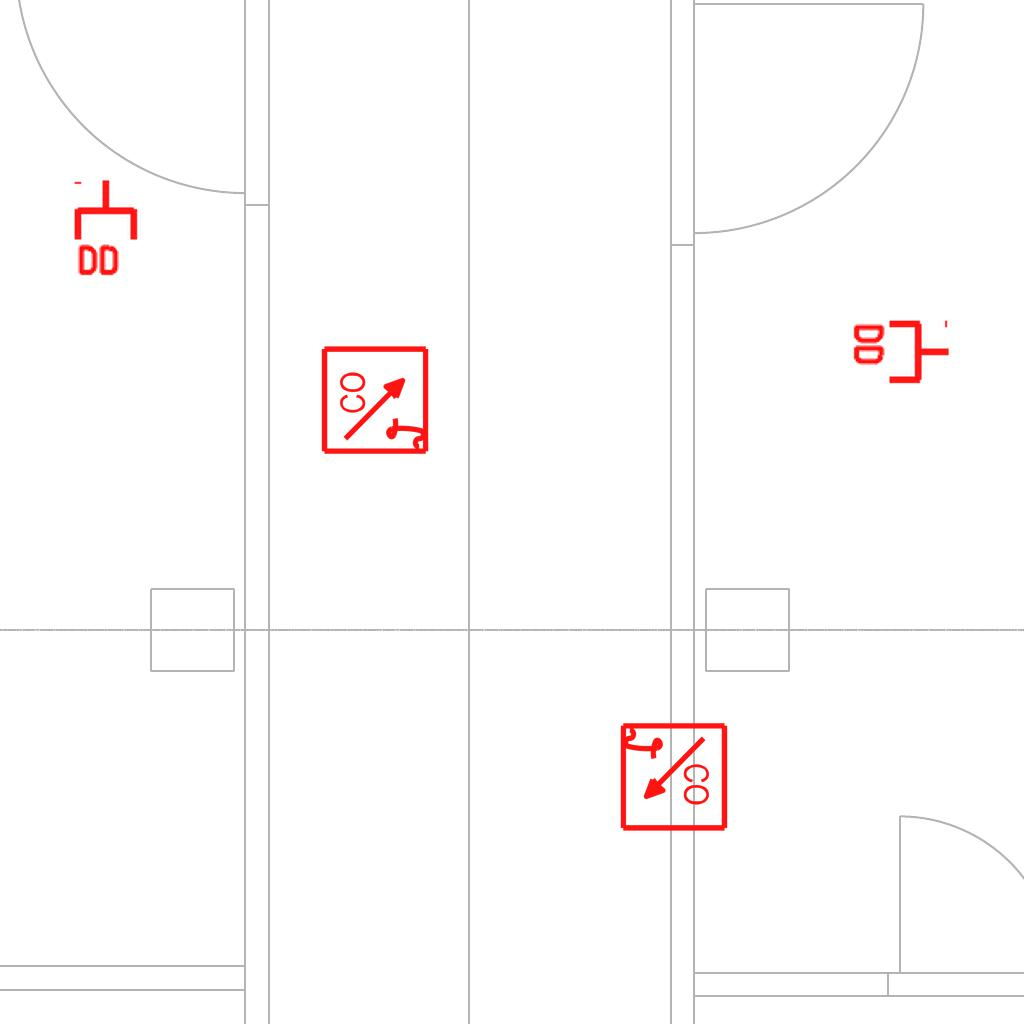Datenanschluss_zweifach: (73, 177, 142, 280), (849, 319, 952, 388)
ROA_Rauchmelder_optisch_mit_Signalgeber_(Sockelsirene): (320, 343, 433, 456), (616, 721, 729, 834)
